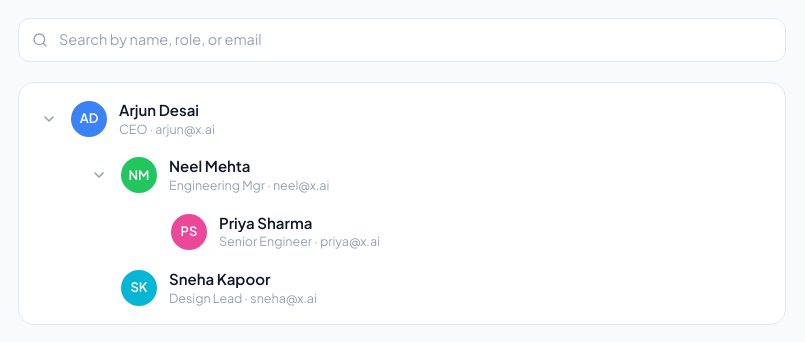
Scenario: HierarchyTree › shows an empty state when nothing matches
The image size is (805, 342).
Type "zzzzz" into the search field with placeholder "Search by name, role, or email".
click(402, 40); type("zzzzz")  # box [18,18,786,62]
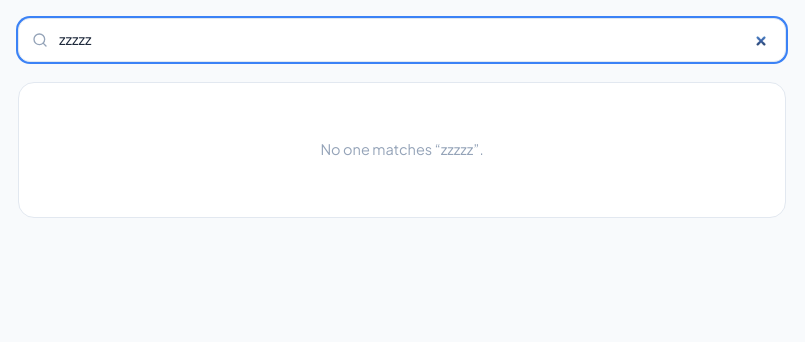
Check: the text "No one matches “zzzzz”." is shown, box [320,140,484,158]
